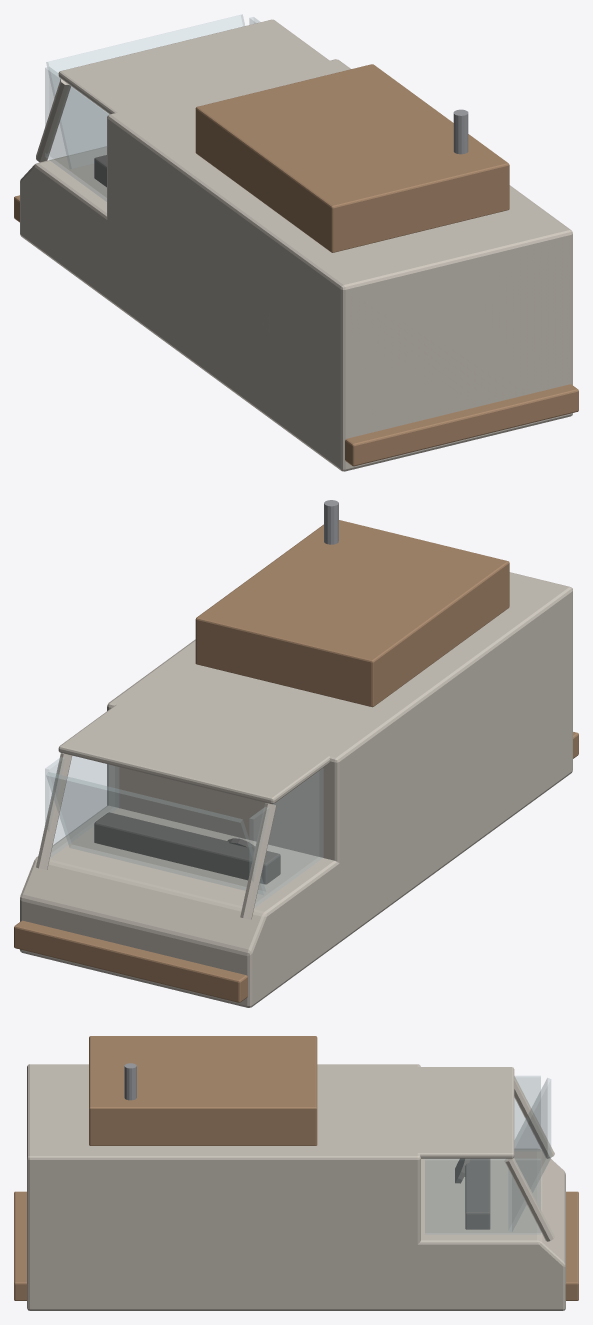
File: camper.glb
The picture shows the model from 3 angles, top to bottom: view 1: azimuth 30°, elevation 25°; view 2: azimuth 150°, elevation 25°; view 3: azimuth 270°, elevation 25°; orthographic projection. The views are drawn at different scales.
Visible parts, largest first — view 1: cargo, camper_top, roof, body, bumper_r, ws_glass, side_glass_-1, a_pillar_-1, stove_pipe; view 2: cargo, camper_top, body, roof, ws_glass, bumper_f, side_glass_-1, dash, side_glass_1, a_pillar_-1, a_pillar_1, stove_pipe; view 3: cargo, camper_top, body, roof, side_glass_1, ws_glass, dash, side_glass_-1, bumper_f, bumper_r, a_pillar_1, a_pillar_-1 (+1 smaller).
Part boxes in pixels (bbox=[...]): cargo: bbox=[107, 59, 572, 471]; camper_top: bbox=[195, 64, 509, 252]; roof: bbox=[58, 19, 331, 114]; body: bbox=[20, 146, 112, 301]; bumper_r: bbox=[345, 384, 578, 466]; ws_glass: bbox=[46, 14, 244, 168]; side_glass_-1: bbox=[45, 67, 108, 201]; a_pillar_-1: bbox=[36, 79, 70, 162]; stove_pipe: bbox=[453, 109, 468, 154]; cargo: bbox=[107, 572, 572, 942]; camper_top: bbox=[195, 520, 509, 707]; body: bbox=[20, 806, 342, 1007]; roof: bbox=[58, 702, 329, 804]; ws_glass: bbox=[46, 772, 265, 894]; bumper_f: bbox=[14, 920, 247, 1002]; side_glass_-1: bbox=[249, 768, 323, 907]; dash: bbox=[94, 812, 280, 884]; side_glass_1: bbox=[45, 756, 118, 857]; a_pillar_-1: bbox=[240, 803, 276, 919]; a_pillar_1: bbox=[36, 753, 71, 869]; stove_pipe: bbox=[324, 500, 338, 544]; cargo: bbox=[27, 1064, 420, 1310]; camper_top: bbox=[89, 1036, 317, 1145]; body: bbox=[408, 1149, 565, 1310]; roof: bbox=[413, 1067, 514, 1158]; side_glass_1: bbox=[425, 1159, 540, 1234]; ws_glass: bbox=[508, 1078, 550, 1231]; dash: bbox=[465, 1158, 490, 1229]; side_glass_-1: bbox=[514, 1076, 540, 1151]; bumper_f: bbox=[565, 1191, 578, 1300]; bumper_r: bbox=[14, 1191, 27, 1300]; a_pillar_1: bbox=[504, 1158, 554, 1241]; a_pillar_-1: bbox=[514, 1076, 554, 1158].
Bounding box in the file's own units: 2.15 × 2.4 × 5.45.
